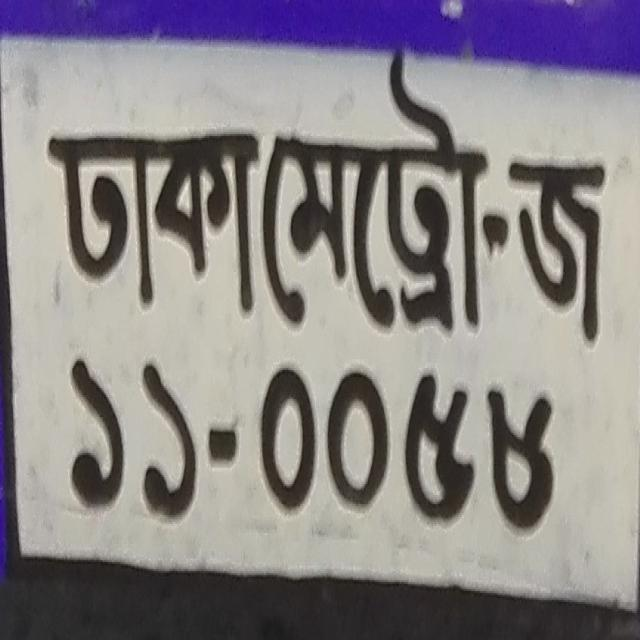numberplate: (1, 9, 638, 614)
